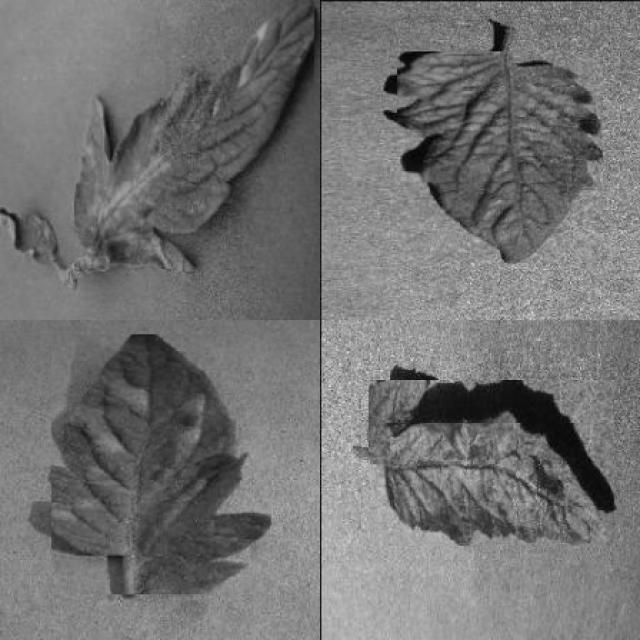Leaf Mold: (75, 1, 315, 272), (51, 335, 272, 595)
Mosaic Virus: (397, 52, 603, 262), (369, 380, 614, 546)
